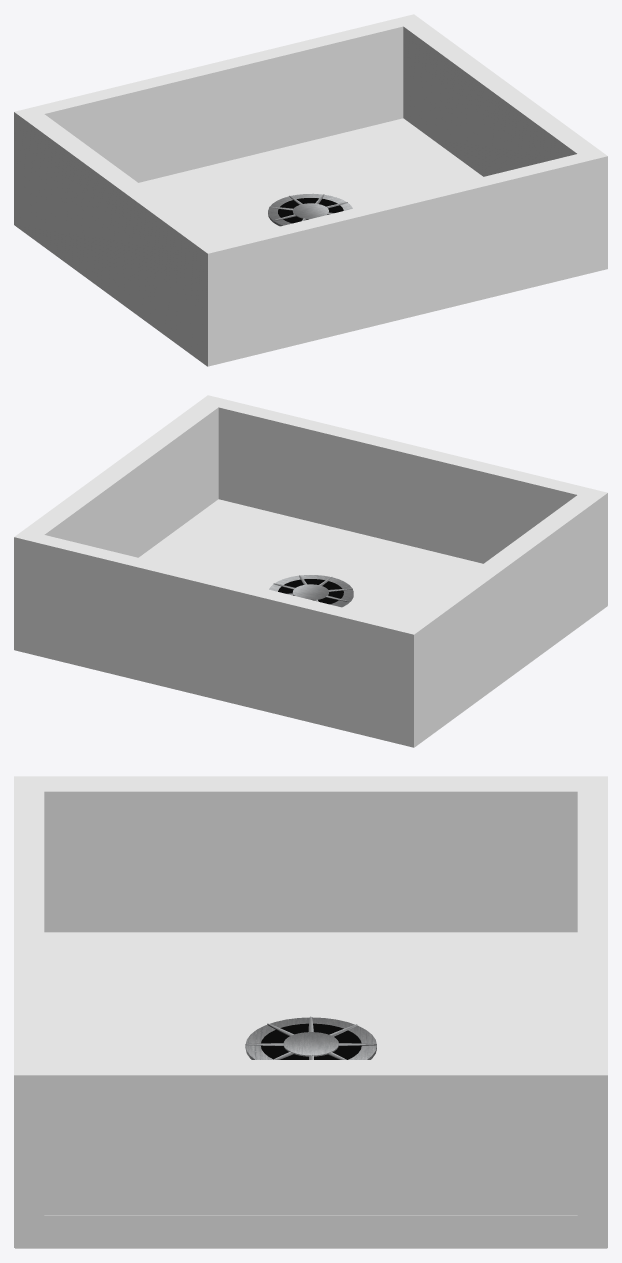
The model's file is Kitchen Sink.fbx.
The picture shows the model from 3 angles, top to bottom: view 1: azimuth 30°, elevation 25°; view 2: azimuth 150°, elevation 25°; view 3: azimuth 270°, elevation 25°; orthographic projection. The views are drawn at different scales.
Visible parts, largest first — view 1: Cube.001, Cylinder, Cylinder.001; view 2: Cube.001, Cylinder, Cylinder.001; view 3: Cube.001, Cylinder.001, Cylinder, Cylinder.006.
Part boxes in pixels (x1,y1,x2,y2): Cube.001: (14, 14, 607, 366); Cylinder: (268, 193, 352, 226); Cylinder.001: (278, 198, 343, 223); Cube.001: (14, 395, 607, 747); Cylinder: (269, 575, 353, 607); Cylinder.001: (278, 579, 343, 604); Cube.001: (14, 776, 607, 1248); Cylinder.001: (261, 1023, 361, 1059); Cylinder: (245, 1017, 376, 1059); Cylinder.006: (283, 1032, 338, 1056).
Size of the model in its own units: 0.6819 by 0.1844 by 0.5726.
8 materials, 7 textured.
